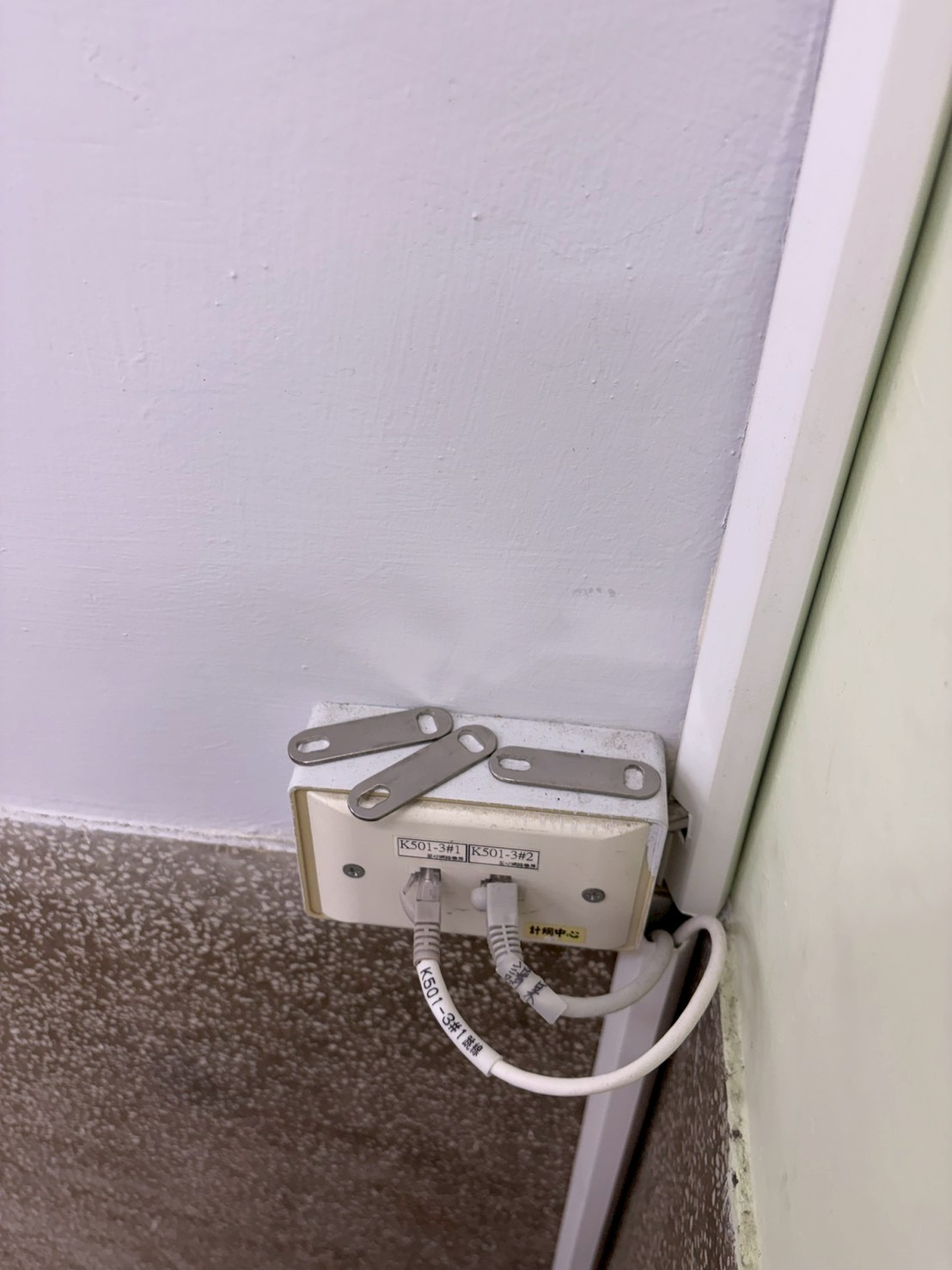Fe: (473, 732, 658, 799), (335, 778, 498, 849), (280, 696, 458, 756)
